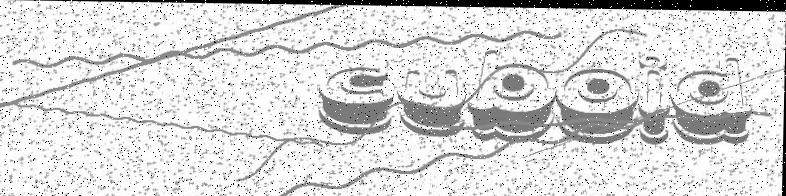b: (468, 48, 557, 141)
c: (317, 64, 395, 135)
d: (670, 53, 752, 144)
i: (637, 52, 671, 144)
o: (556, 65, 640, 143)
u: (396, 66, 467, 137)
